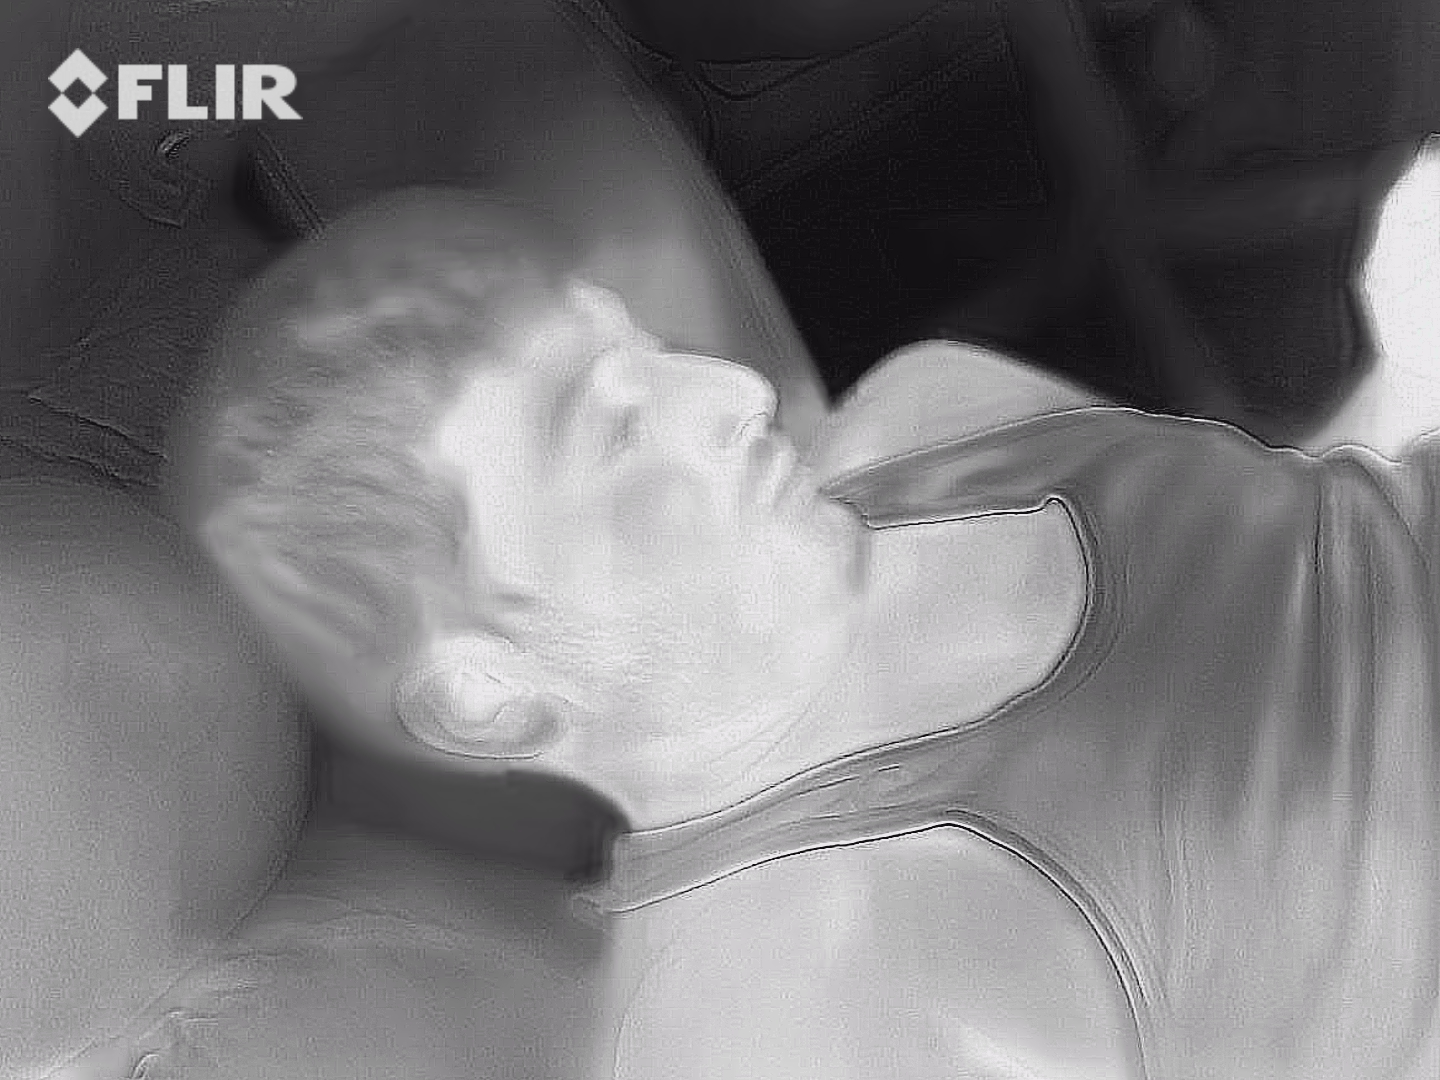head: (151, 176, 870, 785)
